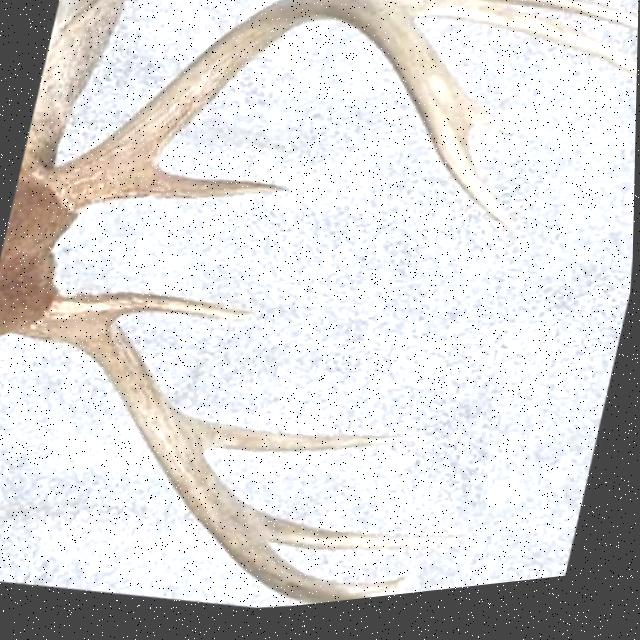E1: (465, 105, 518, 147)
E2: (318, 585, 413, 604)
L-F: (8, 292, 384, 611)
L-G1: (84, 294, 262, 325)
L-G2: (185, 417, 395, 458)
L-G3: (265, 519, 464, 559)
R-F: (36, 0, 517, 236)
R-G1: (125, 169, 293, 203)
R-G3: (373, 0, 638, 90)
